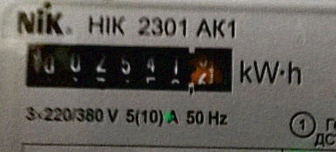0: (40, 49, 59, 76), (68, 47, 83, 75)
1: (168, 49, 182, 76)
2: (92, 48, 109, 74)
4: (144, 49, 158, 72)
5: (117, 48, 136, 77)
6: (195, 67, 210, 85)
screen: (13, 26, 248, 106)
